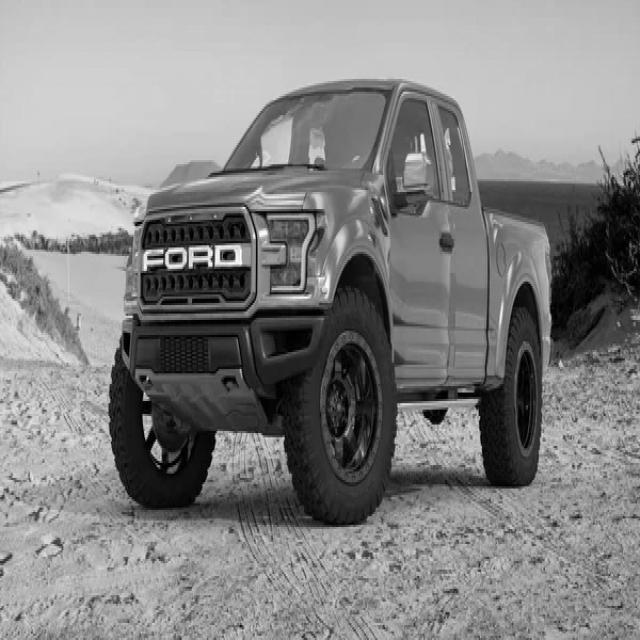Car: (109, 81, 552, 524)
